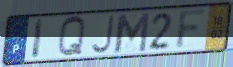2: (147, 11, 174, 52)
F: (173, 7, 210, 52)
I: (30, 18, 45, 61)
J: (89, 14, 116, 55)
M: (113, 11, 151, 54)
Q: (56, 15, 87, 59)
